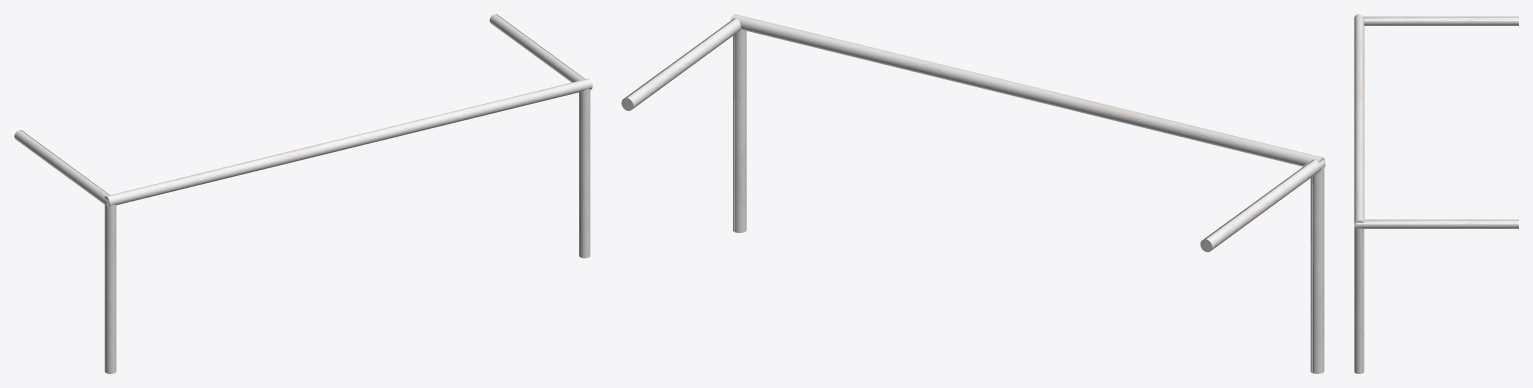
The model's file is Trave.fbx.
3 renders of one model, left to right at view 1: azimuth 30°, elevation 25°; view 2: azimuth 150°, elevation 25°; view 3: azimuth 270°, elevation 25°, orthographic. The views are drawn at different scales.
Parts seen in each view (by area): view 1: Trave2, Trave, Trave3, Trave4, Trave5; view 2: Trave2, Trave, Trave3, Trave4, Trave5; view 3: Trave2, Trave5, Trave3, Trave4.
Part boxes in pixels (x1=…): Trave2: x1=104, y1=78, x2=592, y2=206; Trave: x1=104, y1=204, x2=116, y2=373; Trave3: x1=579, y1=89, x2=590, y2=258; Trave4: x1=14, y1=130, x2=111, y2=206; Trave5: x1=489, y1=14, x2=590, y2=90; Trave2: x1=730, y1=14, x2=1325, y2=166; Trave: x1=1310, y1=167, x2=1324, y2=373; Trave3: x1=733, y1=29, x2=746, y2=232; Trave4: x1=1200, y1=159, x2=1325, y2=252; Trave5: x1=621, y1=18, x2=741, y2=110; Trave2: x1=1354, y1=14, x2=1364, y2=229; Trave5: x1=1356, y1=219, x2=1518, y2=228; Trave3: x1=1354, y1=226, x2=1364, y2=373; Trave4: x1=1362, y1=16, x2=1518, y2=25.
Bounding box in the file's own units: 1471 × 509 × 494.
1 material, 1 textured.
